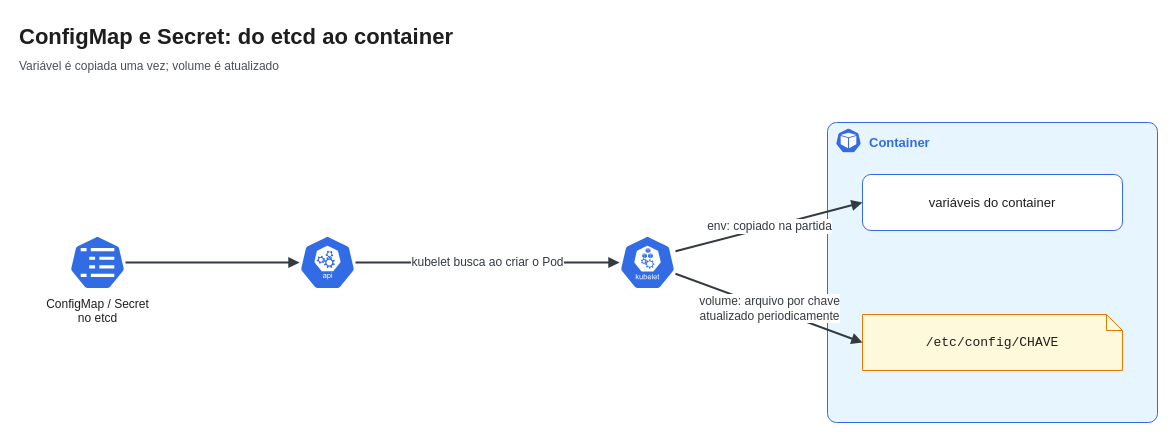
This 1175x440 diagram has some shape labels left out. The shapes that lost their labels are listed below. From the top down, each one's centre as x and y in pixels, then its label:
point 327,262: kube-apiserver
point 647,262: kubelet
